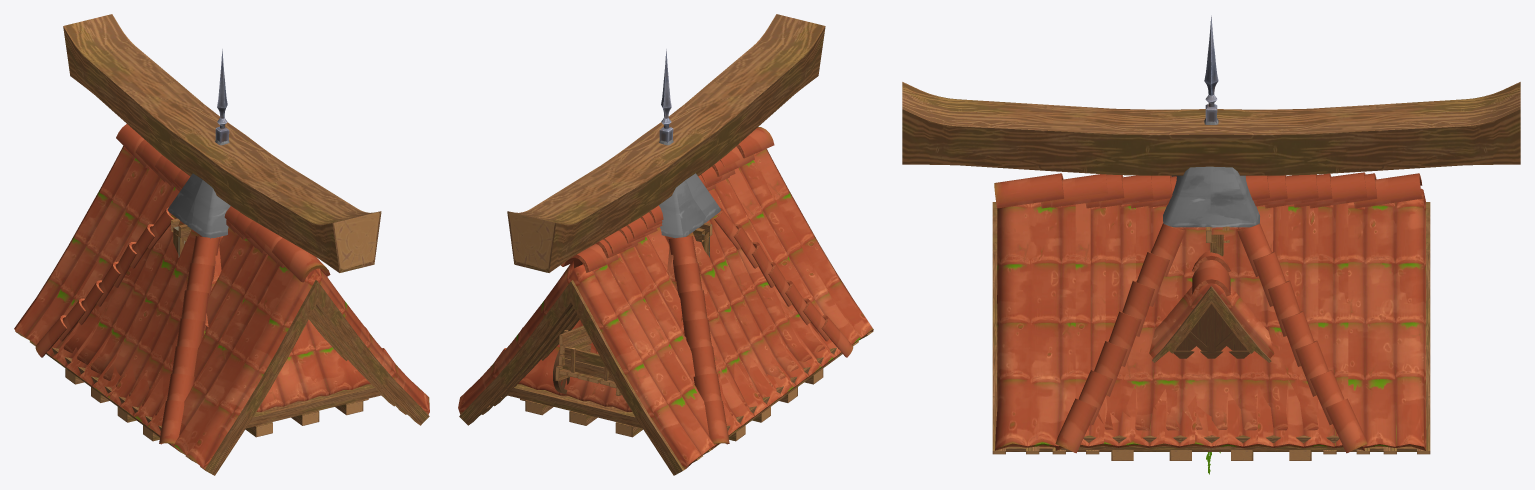
File: village.glb
The picture shows the model from 3 angles, left to right: view 1: azimuth 30°, elevation 25°; view 2: azimuth 150°, elevation 25°; view 3: azimuth 270°, elevation 25°; orthographic projection. The views are drawn at different scales.
Visible parts, largest first — view 1: Roof_RoundTiles_4x6, Roof_Tower_RoundTiles, Roof_Log, Roof_RoundTiles_4x4; view 2: Roof_RoundTiles_4x6, Roof_Tower_RoundTiles, Roof_Log, Roof_RoundTiles_4x4, Prop_Wagon; view 3: Roof_RoundTiles_4x6, Roof_Log, Roof_Tower_RoundTiles, Roof_RoundTiles_4x4, Roof_Dormer_RoundTile.
Boxes of the visible parts, bbox=[...] form: Roof_RoundTiles_4x6: bbox=[14, 124, 429, 475]; Roof_Tower_RoundTiles: bbox=[35, 49, 395, 447]; Roof_Log: bbox=[63, 14, 381, 272]; Roof_RoundTiles_4x4: bbox=[46, 142, 394, 454]; Roof_RoundTiles_4x6: bbox=[458, 127, 873, 475]; Roof_Tower_RoundTiles: bbox=[493, 49, 853, 447]; Roof_Log: bbox=[507, 14, 825, 272]; Roof_RoundTiles_4x4: bbox=[494, 156, 841, 454]; Prop_Wagon: bbox=[553, 326, 621, 395]; Roof_RoundTiles_4x6: bbox=[992, 173, 1430, 454]; Roof_Log: bbox=[902, 82, 1520, 175]; Roof_Tower_RoundTiles: bbox=[1055, 15, 1367, 460]; Roof_RoundTiles_4x4: bbox=[1050, 172, 1369, 454]; Roof_Dormer_RoundTile: bbox=[1149, 250, 1274, 362].
Size of the model in its own units: 5.65 by 8.91 by 10.7.
9 materials, 8 textured.
